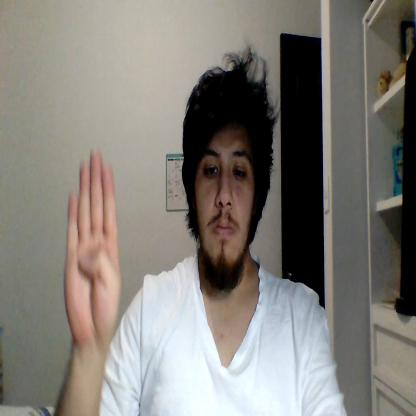B: (64, 149, 121, 347)
